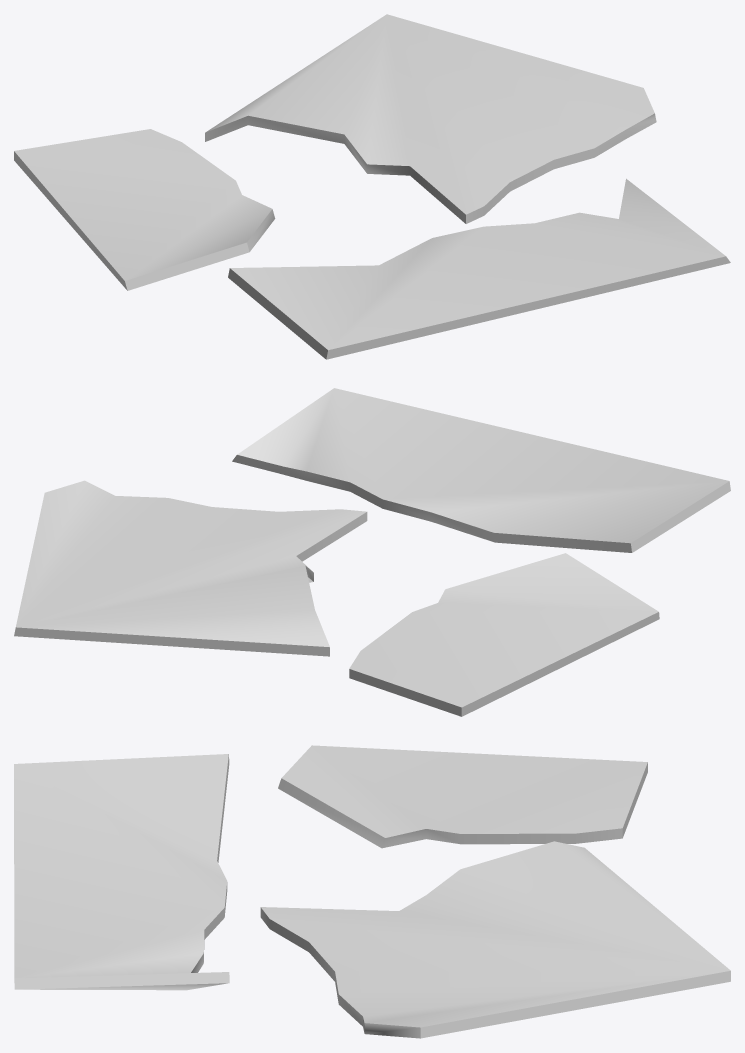
The model's file is torn_note.fbx.
The picture shows the model from 3 angles, top to bottom: view 1: azimuth 30°, elevation 25°; view 2: azimuth 150°, elevation 25°; view 3: azimuth 270°, elevation 25°; orthographic projection. The views are drawn at different scales.
Visible parts, largest first — view 1: torn_note; view 2: torn_note; view 3: torn_note.
Part boxes in pixels (x1,y1,x2,y2): torn_note: [14, 14, 730, 359]; torn_note: [14, 388, 730, 716]; torn_note: [14, 745, 730, 1038].
Bounding box in the file's own units: 17.47 × 1.15 × 17.52.
1 material, 1 textured.
